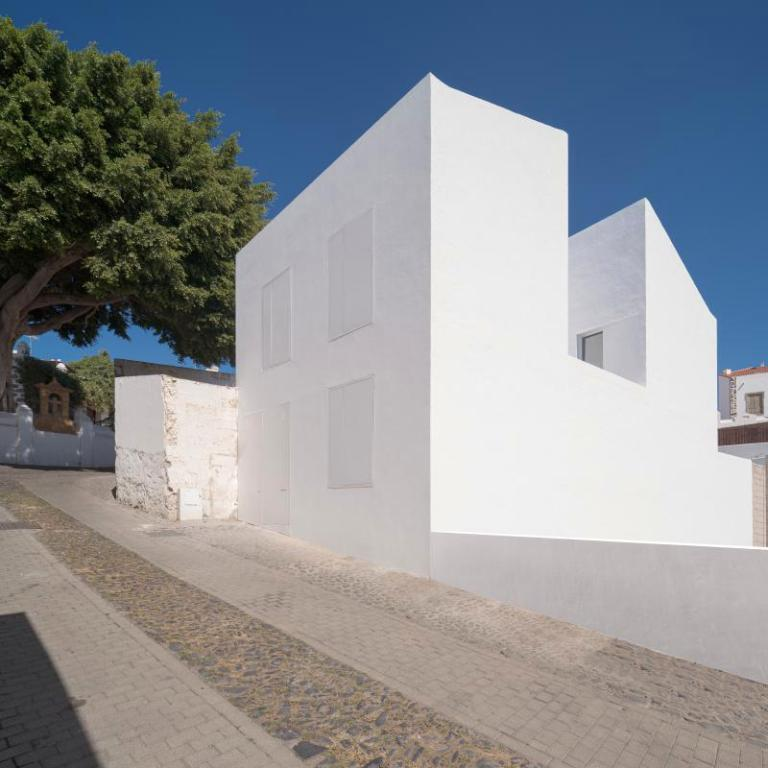white-walls: (380, 107, 712, 532)
